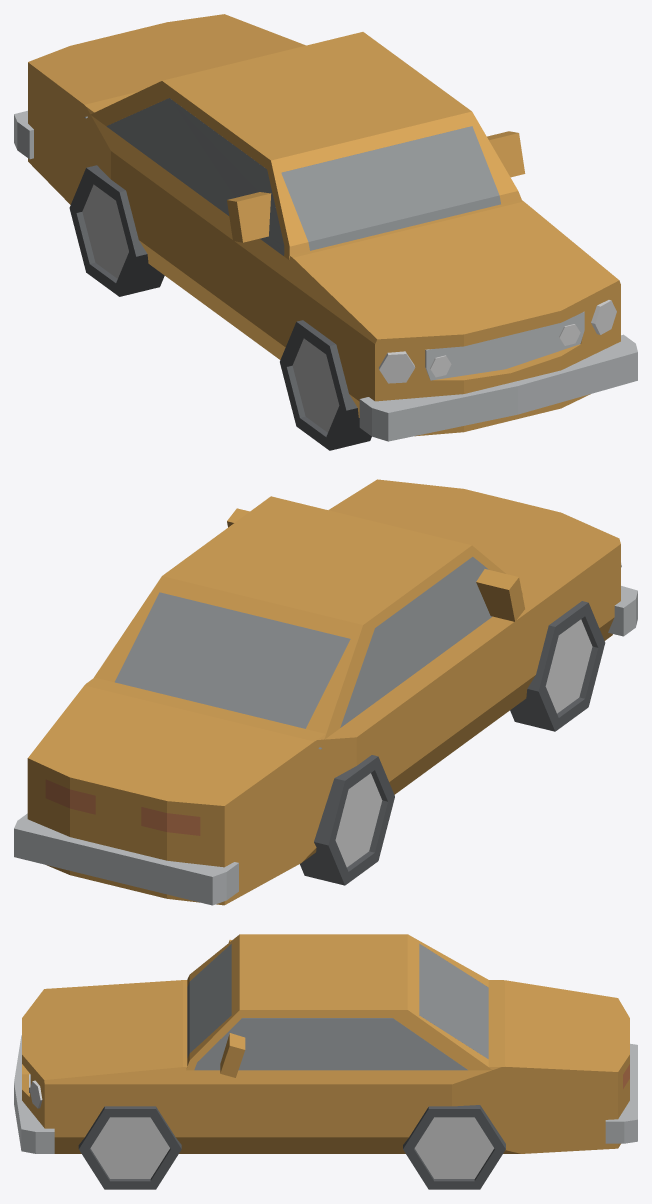
Rendered from Terrific Wolt.glb.
3 renders of one model, top to bottom at view 1: azimuth 30°, elevation 25°; view 2: azimuth 150°, elevation 25°; view 3: azimuth 270°, elevation 25°, orthographic. The views are drawn at different scales.
Parts seen in each view (by area): view 1: Mesh_Mesh_head_geo.001_lambert2SG.001; view 2: Mesh_Mesh_head_geo.001_lambert2SG.001; view 3: Mesh_Mesh_head_geo.001_lambert2SG.001.
Part boxes in pixels (x1,y1,x2,y2): Mesh_Mesh_head_geo.001_lambert2SG.001: [14, 14, 637, 450]; Mesh_Mesh_head_geo.001_lambert2SG.001: [14, 479, 637, 905]; Mesh_Mesh_head_geo.001_lambert2SG.001: [14, 934, 637, 1189].
Bounding box in the file's own units: 31 × 23 × 77.
